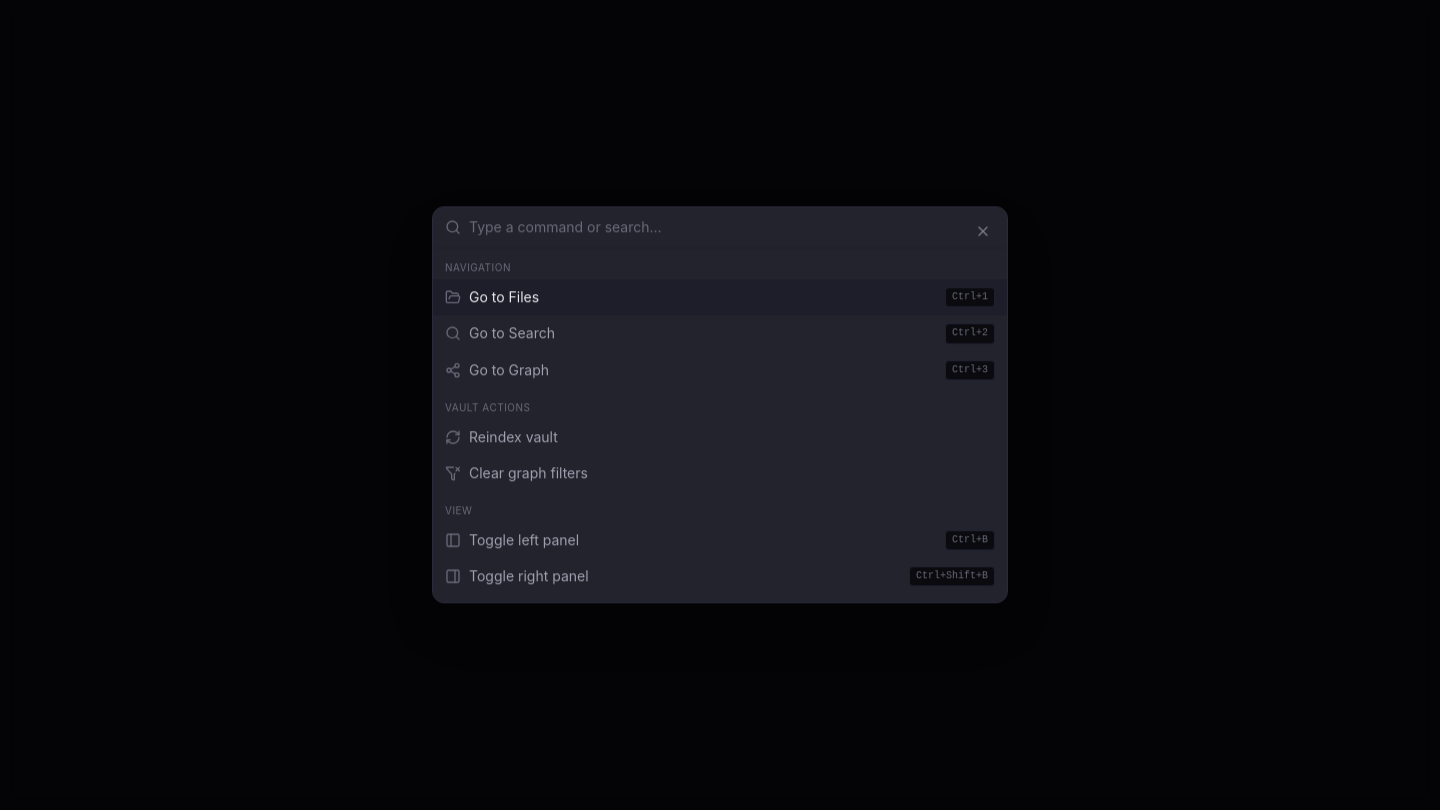
Test: CommandPalette › filters commands via query input
The image size is (1440, 810).
Step 1. Type "graph" into the field with placeholder "Type a command or search…" → (732, 227), box [469,217,995,237]
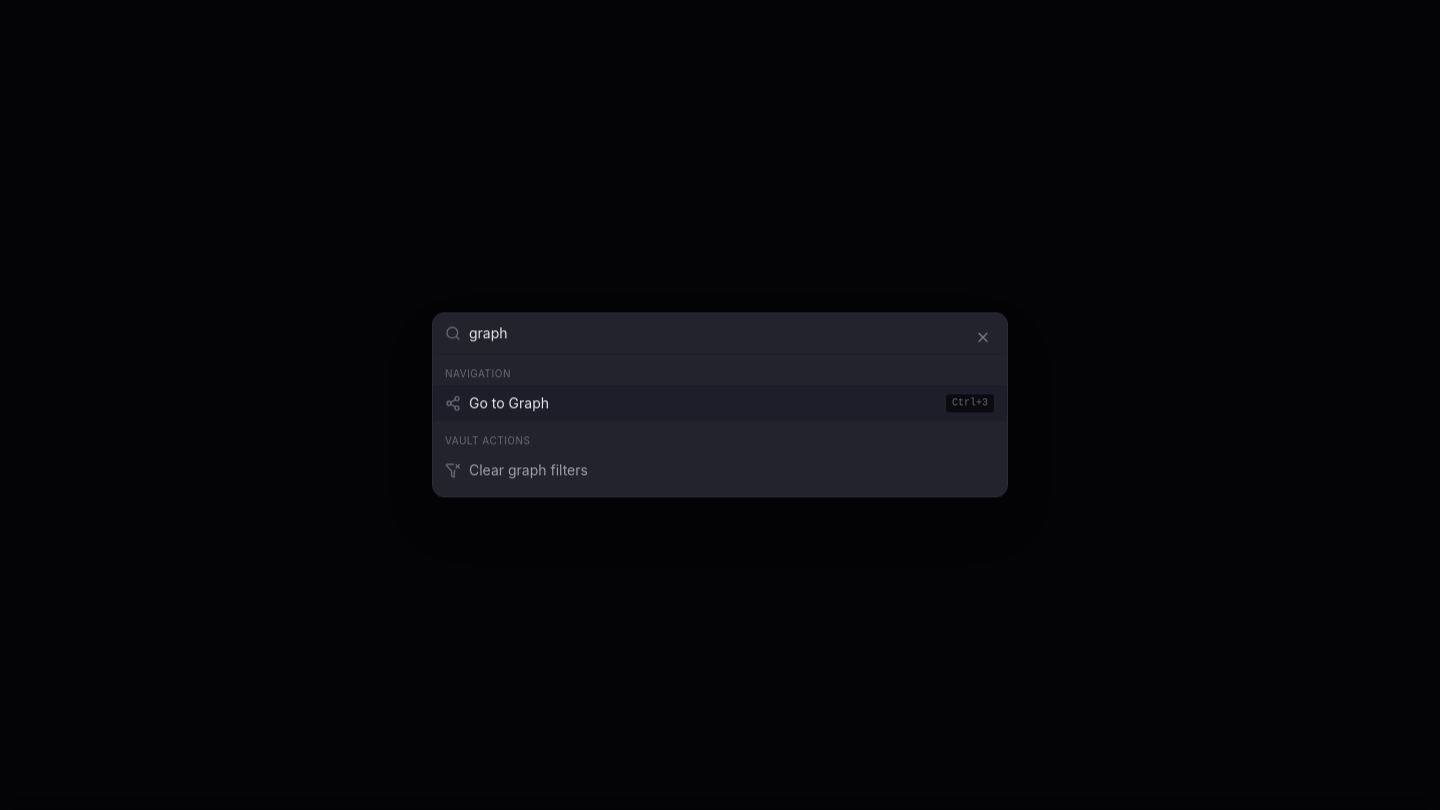
Expected: the text "Go to Graph" is shown, [469,394,549,412]
Now the option "Go to Files" is gone
